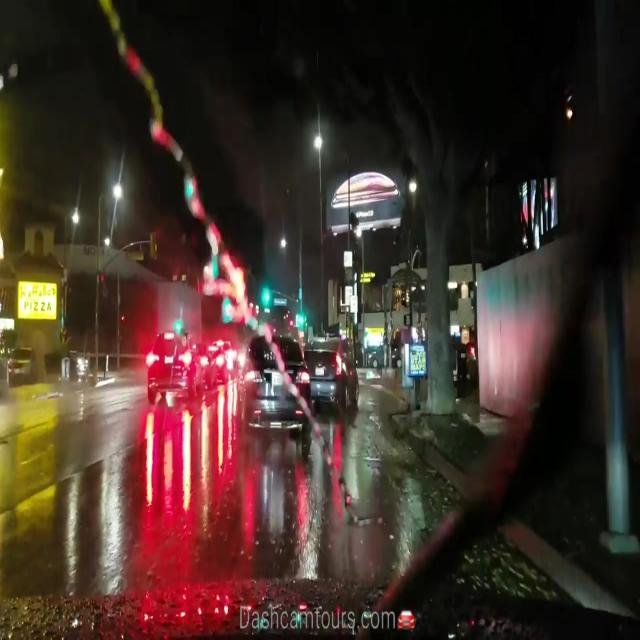Car: (242, 329, 307, 442), (303, 332, 358, 413), (145, 332, 194, 407)
